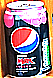pepsi: (2, 1, 53, 78)
